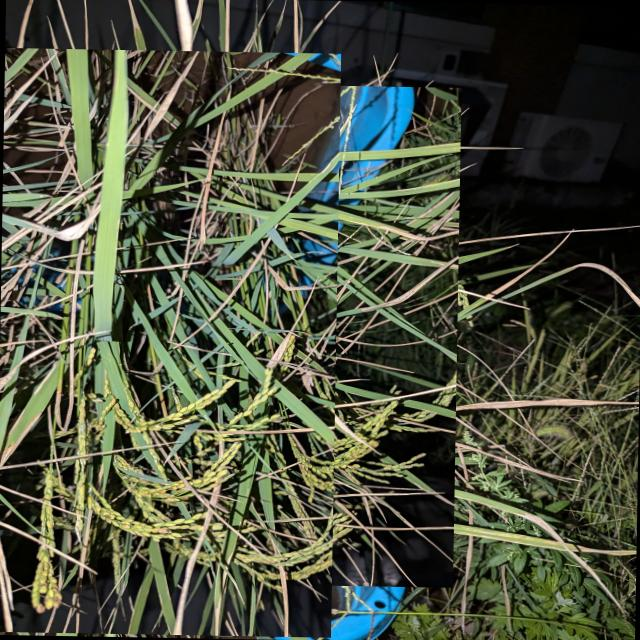9month_ine: (0, 48, 341, 638), (92, 82, 462, 588)
